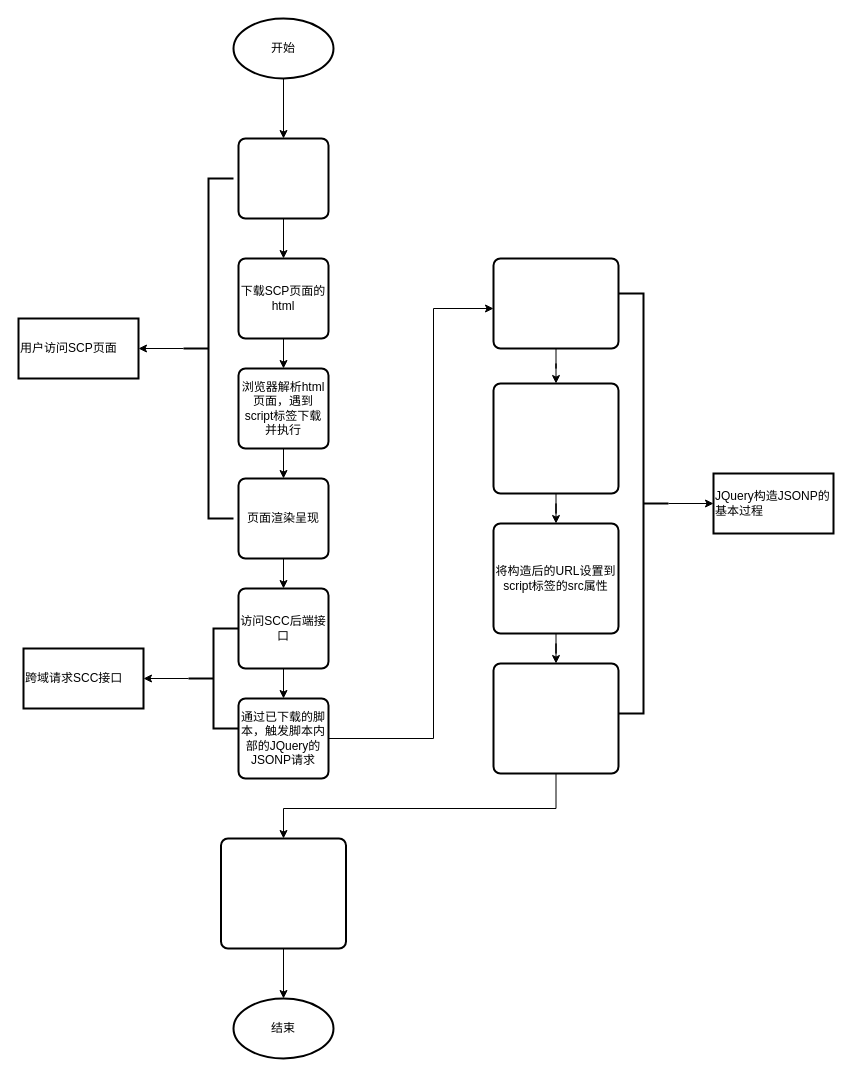
Image size: 851x1076. Some labels were removed from this diagram. Here are the shapes that lost their labels. From the top down, the centre of each, then its label:
At (283,178): "从浏览器访问SCP页面".
At (555,303): "创建script标签".
At (555,438): "使利用SONP请求的url、data等参数构造出GET请求完整的URL".
At (555,718): "该script标签插入到html上，让浏览器来下载js（这里理解为请求接口即可）".
At (283,893): "此时页面已经拿到后端接口返回的数据".
